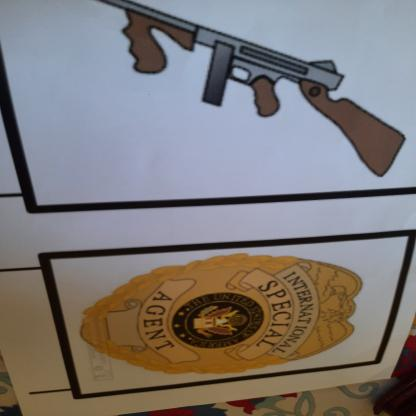Bootlegger: (61, 1, 416, 185)
G-man: (74, 251, 376, 382)
